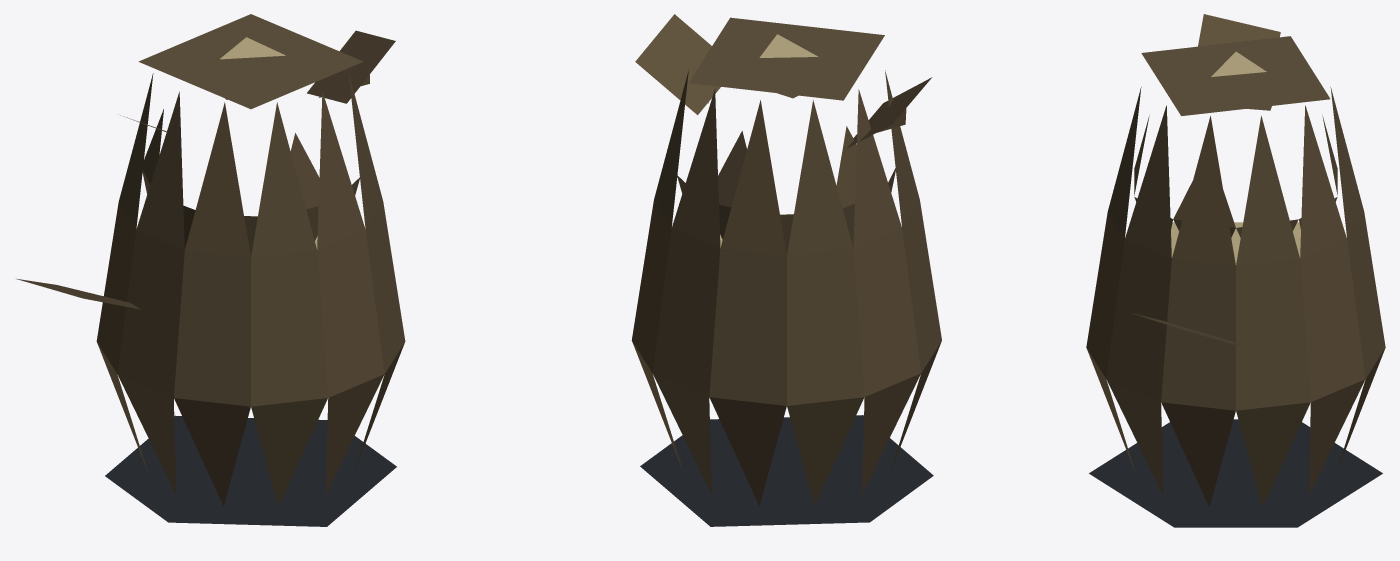
File: jedi-master-robe.lod.glb
3 views of the same model, side by side, from view 1: azimuth 30°, elevation 25°; view 2: azimuth 150°, elevation 25°; view 3: azimuth 270°, elevation 25° (orthographic). The views are drawn at different scales.
Visible parts, largest first — view 1: m; view 2: m; view 3: m.
Boxes of the visible parts, bbox=[...] form: m: bbox=[16, 14, 405, 526]; m: bbox=[631, 14, 941, 526]; m: bbox=[1086, 14, 1385, 527].
Size of the model in its own units: 0.4658 by 0.4107 by 0.2613.
